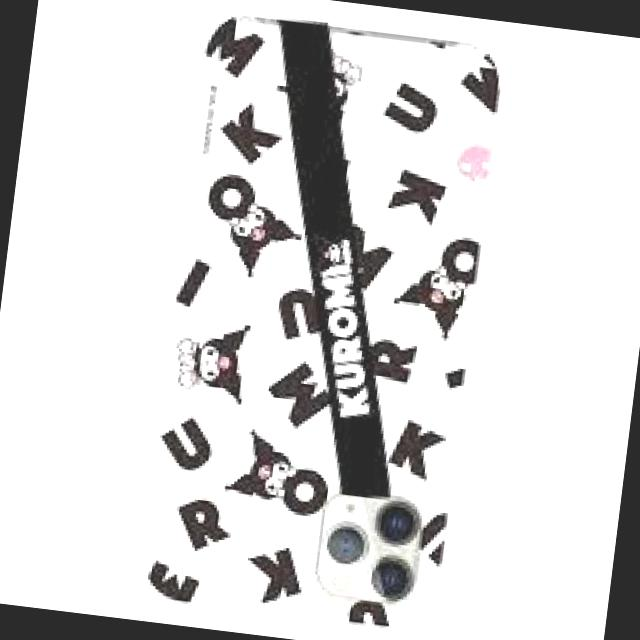lens_back: (362, 548, 424, 604), (366, 494, 426, 549), (320, 514, 376, 570)
phone: (132, 4, 510, 636)
